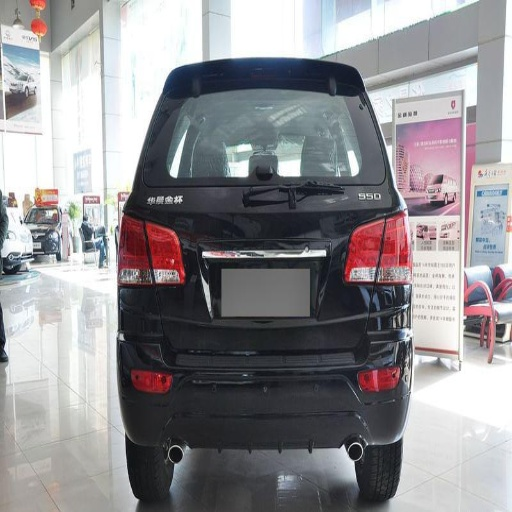back_bumper: (119, 285, 410, 448)
tailgate: (222, 183, 386, 350), (130, 186, 187, 286)
trunk: (155, 190, 390, 355)
